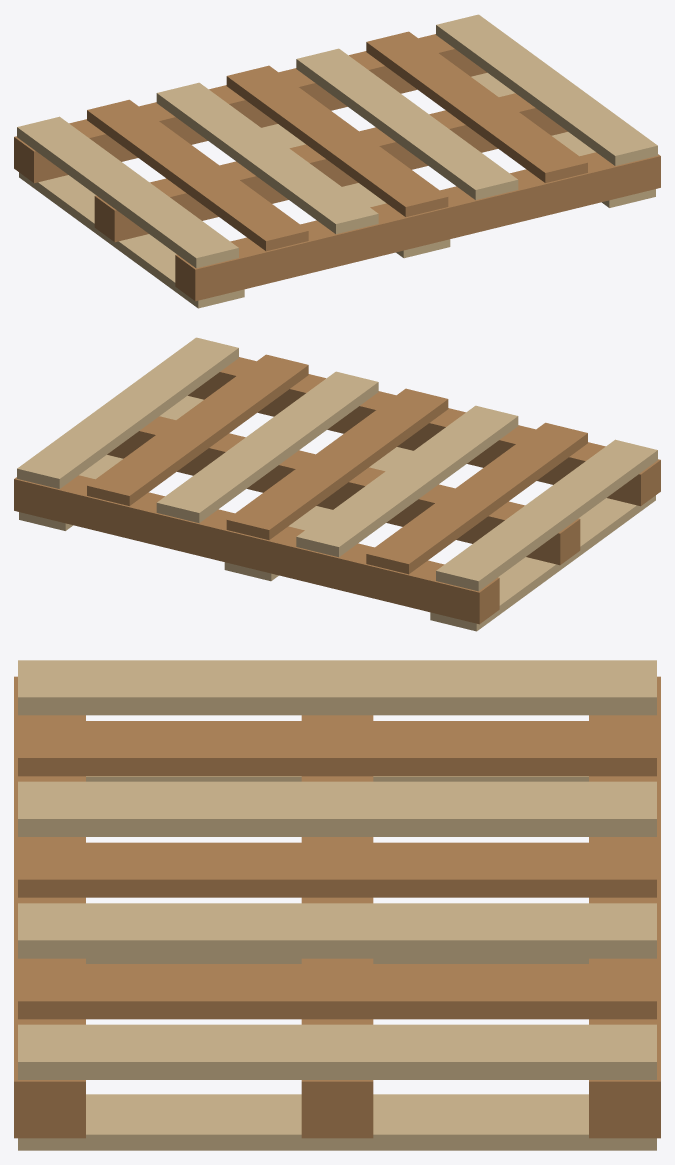
The model's file is pallet.glb.
3 views of the same model, one above another, from view 1: azimuth 30°, elevation 25°; view 2: azimuth 150°, elevation 25°; view 3: azimuth 270°, elevation 25° (orthographic). The views are drawn at different scales.
Visible parts, largest first — view 1: Body; view 2: Body; view 3: Body.
Part boxes in pixels (bbox=[...]): Body: bbox=[14, 14, 660, 308]; Body: bbox=[14, 337, 660, 631]; Body: bbox=[14, 660, 660, 1150].
Bounding box in the file's own units: 1.2 × 0.125 × 0.81.
